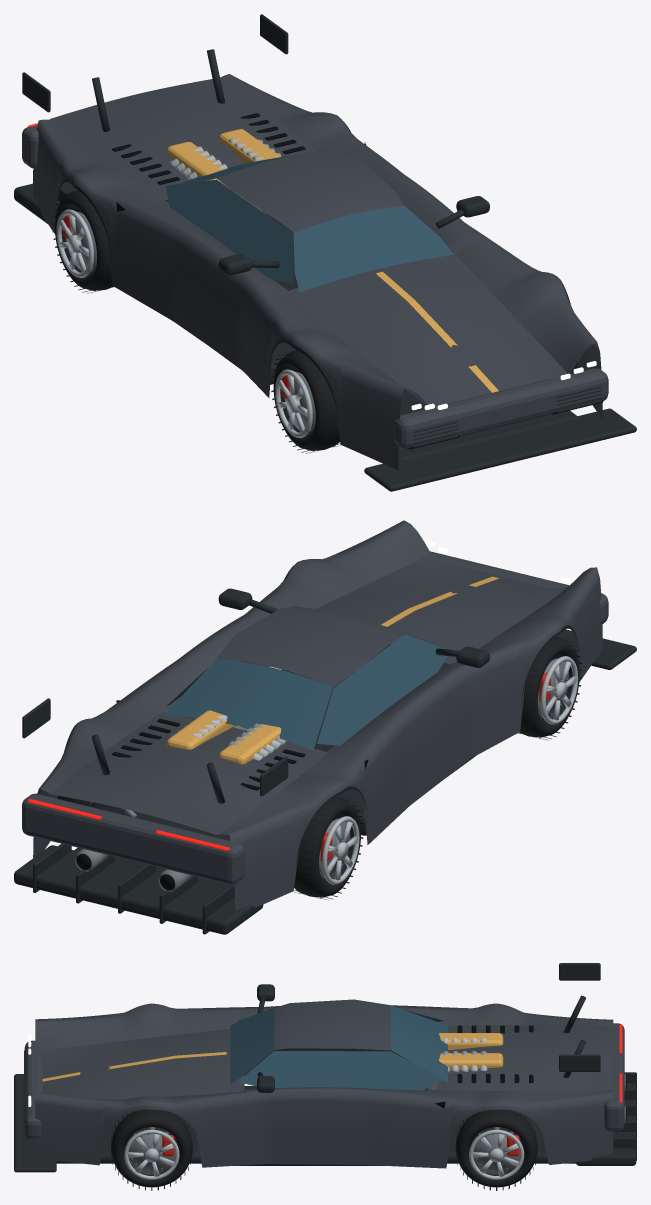
File: concept-obsidian.glb
The picture shows the model from 3 angles, top to bottom: view 1: azimuth 30°, elevation 25°; view 2: azimuth 150°, elevation 25°; view 3: azimuth 270°, elevation 25°; orthographic projection. The views are drawn at different scales.
Parts seen in each view (by area): view 1: SidePanelsR | sculpted arch fenders, Hood | central sculpted bonnet, SidePanelsL | sculpted arch fenders, RearDeck | engine shoulders, Roof | floating canopy, GlassWindshield, SplitterFront, BumperFront | upper bridge, GlassSideR, TireAndTreadFrontR, Undertray carbon tub, Engine | Naturally aspirated V12 / rear drive (+12 smaller); view 2: SidePanelsR | sculpted arch fenders, RearDeck | engine shoulders, SidePanelsL | sculpted arch fenders, Hood | central sculpted bonnet, BumperRear | shoulder bridge, Roof | floating canopy, GlassRear | engine viewing canopy, DiffuserRear | main expansion ramp, GlassSideR, TireAndTreadRearR, Engine | Naturally aspirated V12 / rear drive, DiffuserRearFins (+15 smaller); view 3: SidePanelsL | sculpted arch fenders, Hood | central sculpted bonnet, SidePanelsR | sculpted arch fenders, RearDeck | engine shoulders, GlassSideL, Roof | floating canopy, TireAndTreadFrontL, TireAndTreadRearL, GlassRear | engine viewing canopy, GlassWindshield, Engine | Naturally aspirated V12 / rear drive, Undertray carbon tub (+16 smaller).
Boxes of the visible parts, left/top/right/bottom form: SidePanelsR | sculpted arch fenders: left=33, top=119, right=427, bottom=469; Hood | central sculpted bonnet: left=285, top=253, right=567, bottom=409; SidePanelsL | sculpted arch fenders: left=220, top=74, right=602, bottom=419; RearDeck | engine shoulders: left=50, top=79, right=317, bottom=200; Roof | floating canopy: left=216, top=149, right=403, bottom=232; GlassWindshield: left=293, top=205, right=453, bottom=291; SplitterFront: left=364, top=408, right=636, bottom=491; BumperFront | upper bridge: left=393, top=368, right=608, bottom=449; GlassSideR: left=165, top=179, right=293, bottom=284; TireAndTreadFrontR: left=271, top=350, right=340, bottom=453; Undertray carbon tub: left=165, top=199, right=577, bottom=460; Engine | Naturally aspirated V12 / rear drive: left=166, top=129, right=281, bottom=215; SidePanelsR | sculpted arch fenders: left=218, top=567, right=602, bottom=910; RearDeck | engine shoulders: left=50, top=712, right=328, bottom=834; SidePanelsL | sculpted arch fenders: left=33, top=520, right=430, bottom=861; Hood | central sculpted bonnet: left=316, top=553, right=566, bottom=663; BumperRear | shoulder bridge: left=22, top=793, right=244, bottom=884; Roof | floating canopy: left=216, top=606, right=403, bottom=686; GlassRear | engine viewing canopy: left=165, top=658, right=332, bottom=750; DiffuserRear | main expansion ramp: left=14, top=845, right=263, bottom=934; GlassSideR: left=317, top=634, right=447, bottom=745; TireAndTreadRearR: left=294, top=796, right=363, bottom=900; Engine | Naturally aspirated V12 / rear drive: left=166, top=710, right=288, bottom=764; DiffuserRearFins: left=33, top=843, right=234, bottom=934; SidePanelsL | sculpted arch fenders: left=35, top=1087, right=613, bottom=1168; Hood | central sculpted bonnet: left=34, top=1028, right=244, bottom=1104; SidePanelsR | sculpted arch fenders: left=35, top=1003, right=613, bottom=1050; RearDeck | engine shoulders: left=437, top=1025, right=614, bottom=1091; GlassSideL: left=238, top=1050, right=443, bottom=1090; Roof | floating canopy: left=274, top=999, right=390, bottom=1050; TireAndTreadFrontL: left=111, top=1109, right=192, bottom=1190; TireAndTreadRearL: left=455, top=1109, right=537, bottom=1190; GlassRear | engine viewing canopy: left=391, top=1005, right=447, bottom=1082; GlassWindshield: left=230, top=1007, right=274, bottom=1084; Engine | Naturally aspirated V12 / rear drive: left=424, top=1033, right=503, bottom=1089; Undertray carbon tub: left=56, top=1086, right=575, bottom=1163.
Size of the model in its own units: 2.09 by 1.23 by 5.24.
